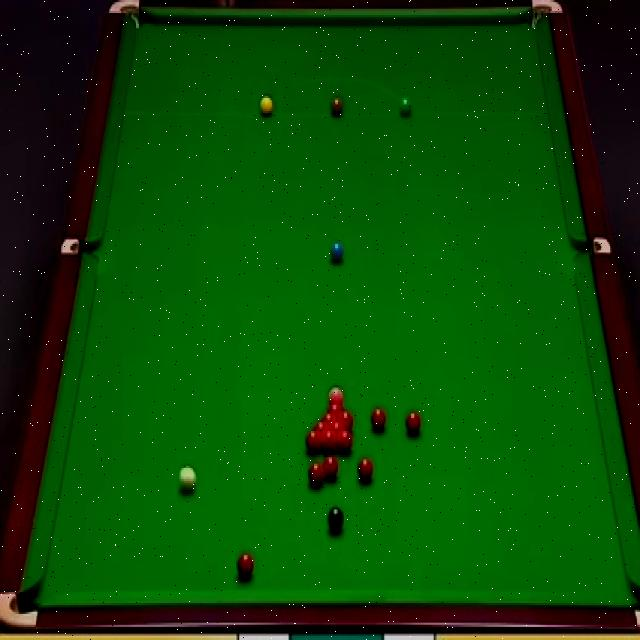black-ball: (326, 504, 344, 534)
blue-ball: (328, 240, 344, 266)
brown-ball: (331, 98, 344, 117)
green-ball: (400, 96, 412, 118)
pink-ball: (327, 386, 343, 404)
red-ball: (234, 552, 255, 581), (368, 404, 388, 429), (307, 459, 324, 487), (322, 455, 339, 482), (304, 429, 321, 455), (356, 457, 374, 481), (406, 409, 422, 435), (320, 429, 338, 452), (337, 430, 354, 452), (335, 413, 355, 428), (325, 401, 344, 412), (313, 421, 328, 434), (320, 413, 338, 423), (327, 421, 343, 432)
white-ball: (177, 462, 198, 492)
yellow-ball: (259, 94, 275, 118)
